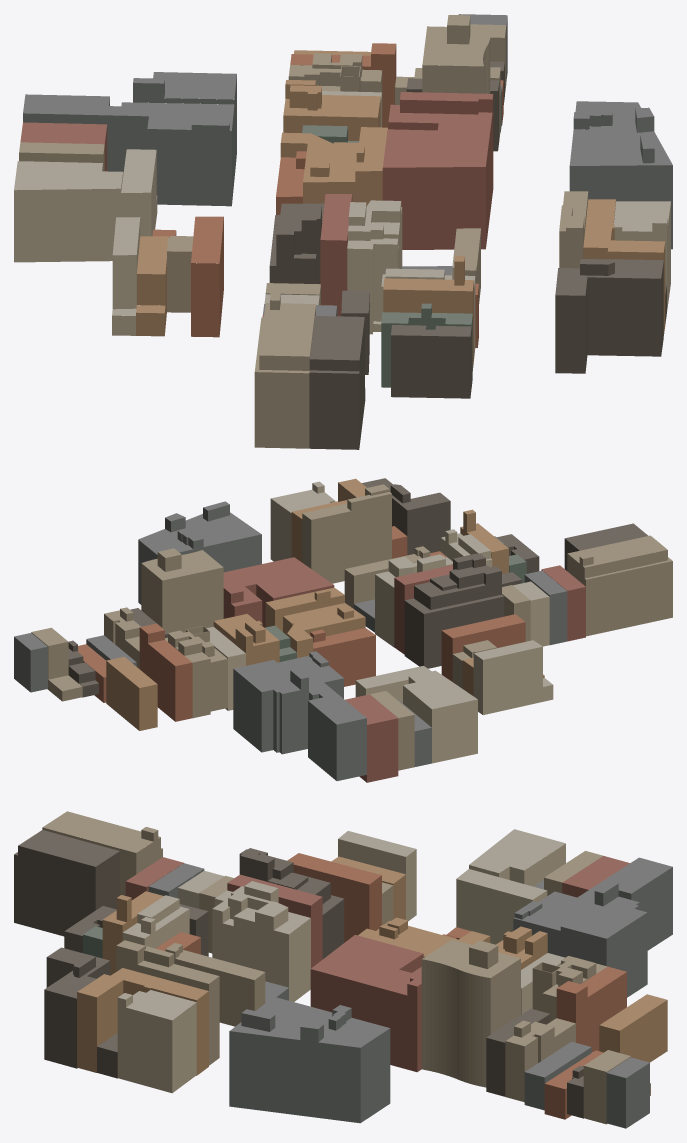
Rendered from tile--1_5.glb.
3 views of the same model, one above another, from view 1: azimuth 30°, elevation 25°; view 2: azimuth 150°, elevation 25°; view 3: azimuth 270°, elevation 25° (orthographic). The views are drawn at different scales.
Visible parts, largest first — view 1: wall, roof; view 2: wall, roof; view 3: wall, roof.
Boxes of the visible parts, x1,y1,x2,y2 form: wall: (14,17,672,449); roof: (14,14,672,389); wall: (14,482,672,782); roof: (14,478,672,731); wall: (14,827,672,1128); roof: (14,811,672,1088).
Bounding box in the file's own units: 192 × 50.95 × 215.
